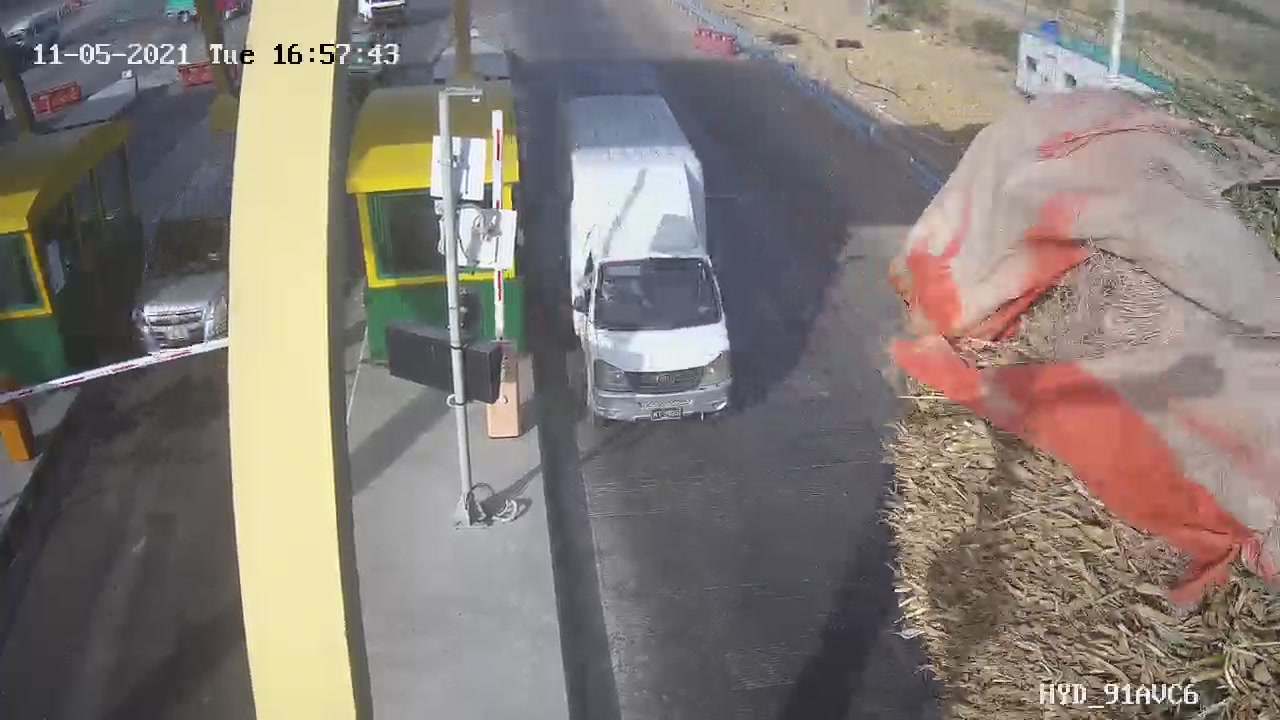F5: (540, 78, 770, 446)
